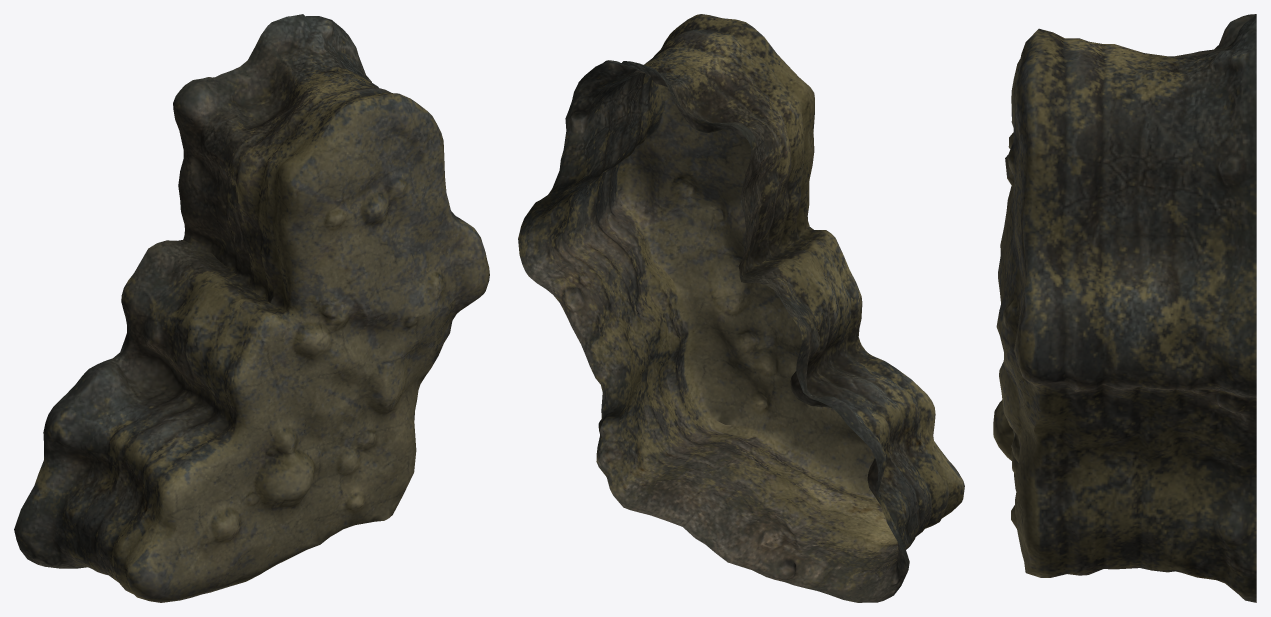
Rendered from rock_cliff_04.obj.
3 renders of one model, left to right at view 1: azimuth 30°, elevation 25°; view 2: azimuth 150°, elevation 25°; view 3: azimuth 270°, elevation 25°, orthographic. The views are drawn at different scales.
Parts seen in each view (by area): view 1: rock_cliff_04; view 2: rock_cliff_04; view 3: rock_cliff_04.
Part boxes in pixels (x1,y1,x2,y2): rock_cliff_04: (14, 14, 489, 602); rock_cliff_04: (518, 14, 964, 602); rock_cliff_04: (993, 14, 1256, 602).
Size of the model in its own units: 19.56 by 23.38 by 9.
1 material, 1 textured.
